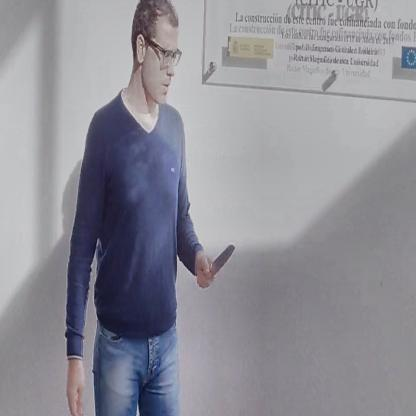knife: (202, 239, 240, 283)
